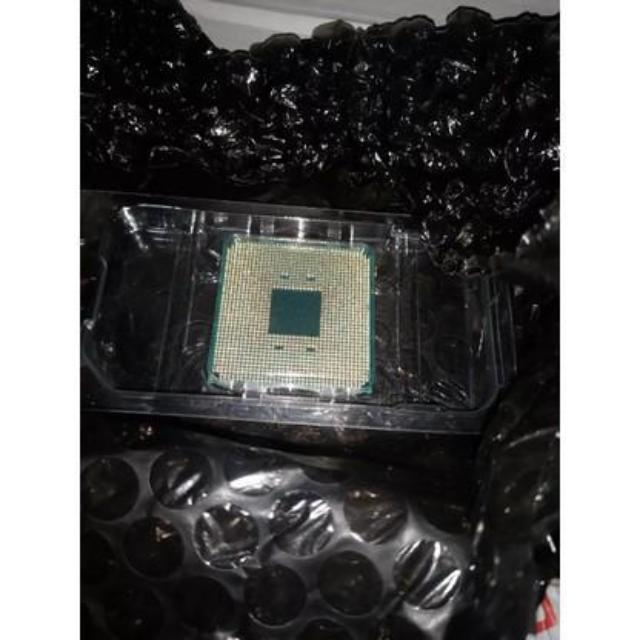CPU: (210, 234, 378, 392)
